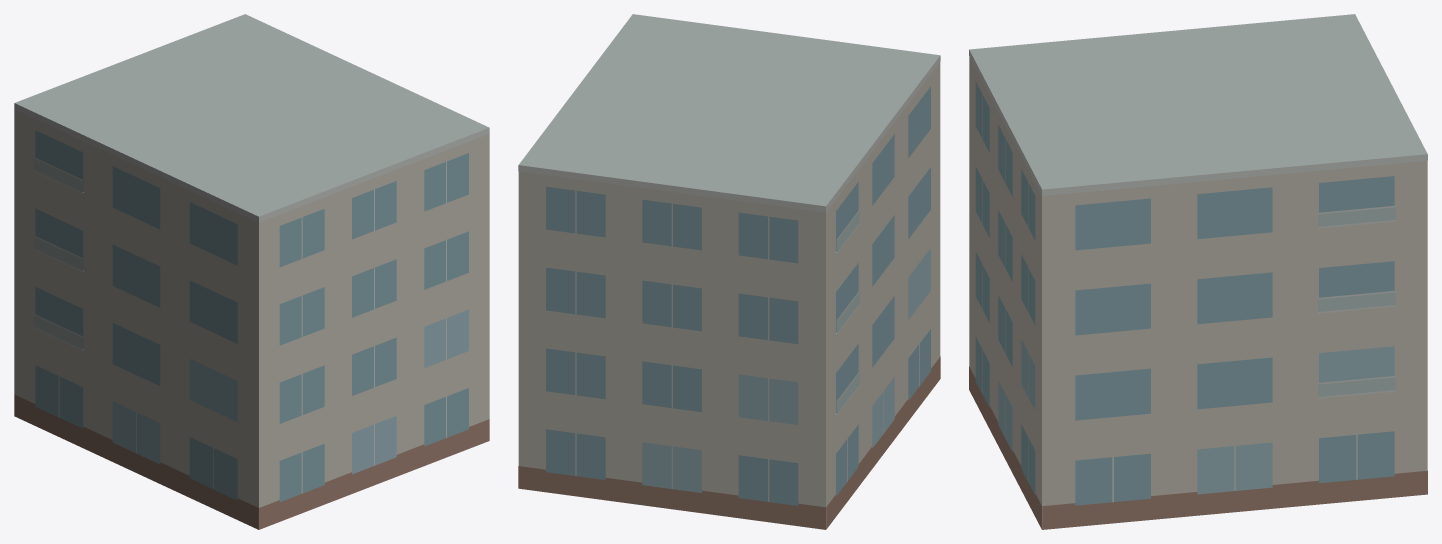
File: survey-upis-32798957.glb
3 renders of one model, left to right at view 1: azimuth 30°, elevation 25°; view 2: azimuth 150°, elevation 25°; view 3: azimuth 270°, elevation 25°, orthographic. The views are drawn at different scales.
Parts seen in each view (by area): view 1: survey-upis-32798957.tmp; view 2: survey-upis-32798957.tmp; view 3: survey-upis-32798957.tmp.
Part boxes in pixels (left/top/right/bottom): survey-upis-32798957.tmp: left=14, top=14, right=489, bottom=529; survey-upis-32798957.tmp: left=518, top=14, right=940, bottom=529; survey-upis-32798957.tmp: left=969, top=14, right=1427, bottom=529.
Bounding box in the file's own units: 14.17 × 12.8 × 15.65.
